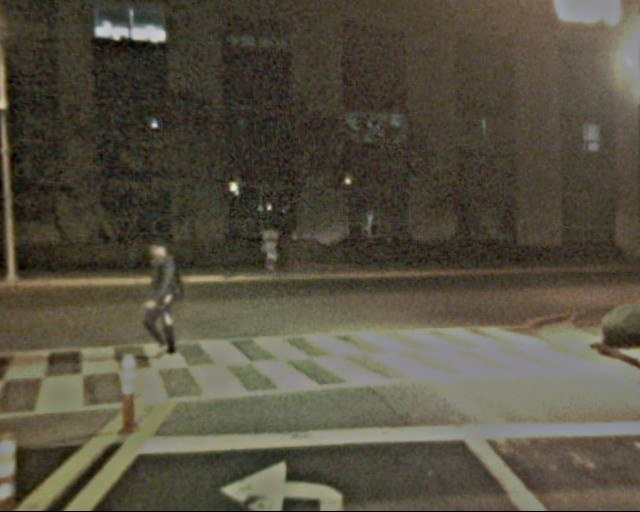person: (136, 236, 192, 362)
